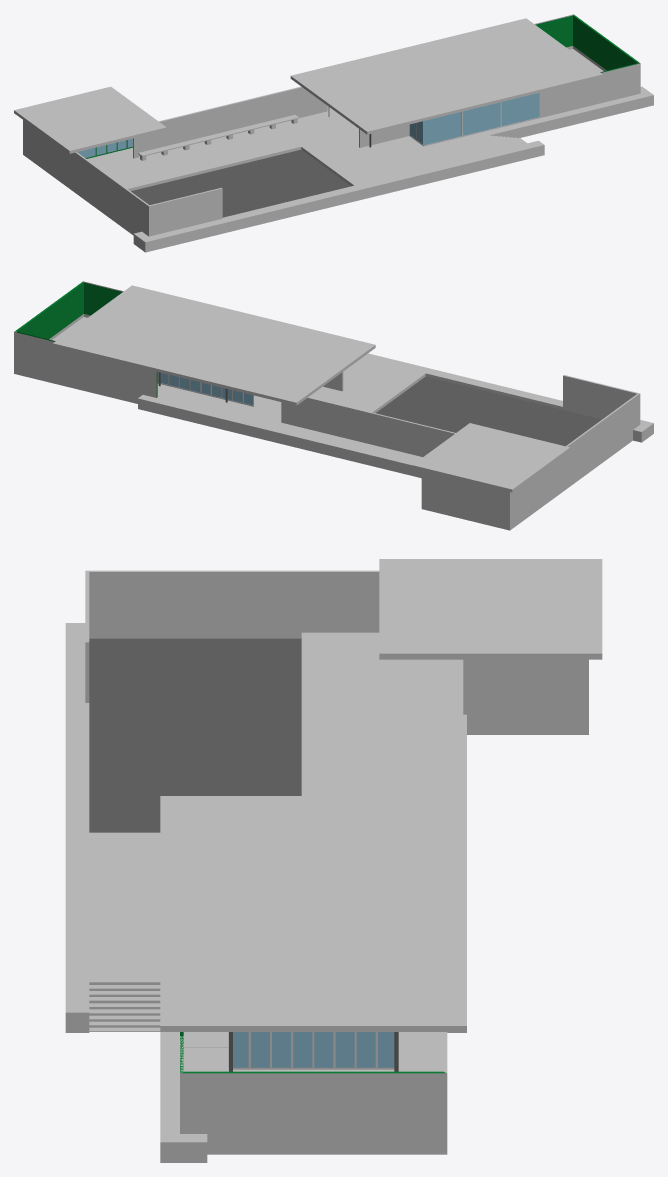
The model's file is Pavilion.fbx.
3 views of the same model, one above another, from view 1: azimuth 30°, elevation 25°; view 2: azimuth 150°, elevation 25°; view 3: azimuth 270°, elevation 25° (orthographic). The views are drawn at different scales.
Visible parts, largest first — view 1: Pavilion; view 2: Pavilion; view 3: Pavilion.
Boxes of the visible parts, x1=… form: Pavilion: x1=14, y1=14, x2=653, y2=252; Pavilion: x1=14, y1=281, x2=653, y2=530; Pavilion: x1=65, y1=559, x2=602, y2=1162.
Bounding box in the file's own units: 56.99 × 4.45 × 24.88.
